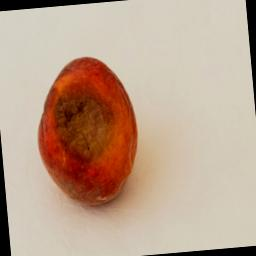Peach Rotten: (22, 53, 148, 211)
